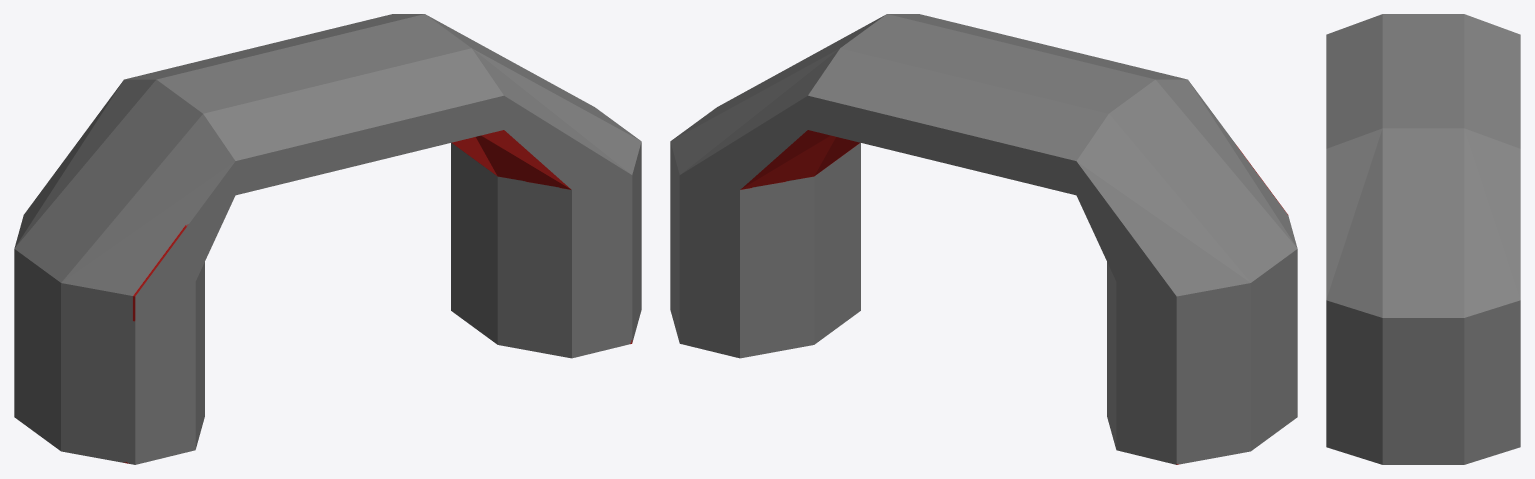
File: Arco.obj
3 renders of one model, left to right at view 1: azimuth 30°, elevation 25°; view 2: azimuth 150°, elevation 25°; view 3: azimuth 270°, elevation 25°, orthographic. The views are drawn at different scales.
Parts seen in each view (by area): view 1: Arco; view 2: Arco; view 3: Arco.
Boxes of the visible parts, left/top/right/bottom form: Arco: left=14, top=14, right=641, bottom=464; Arco: left=670, top=14, right=1297, bottom=464; Arco: left=1326, top=14, right=1520, bottom=464.
Bounding box in the file's own units: 19.68 × 9.82 × 6.55.
Materials: 1 (1 with a texture image).
